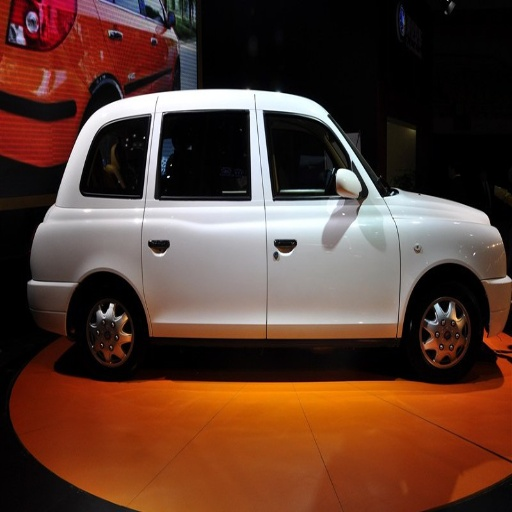back_right_door: (145, 102, 266, 344), (93, 114, 142, 181), (99, 1, 142, 71)
trunk: (31, 214, 136, 318)
